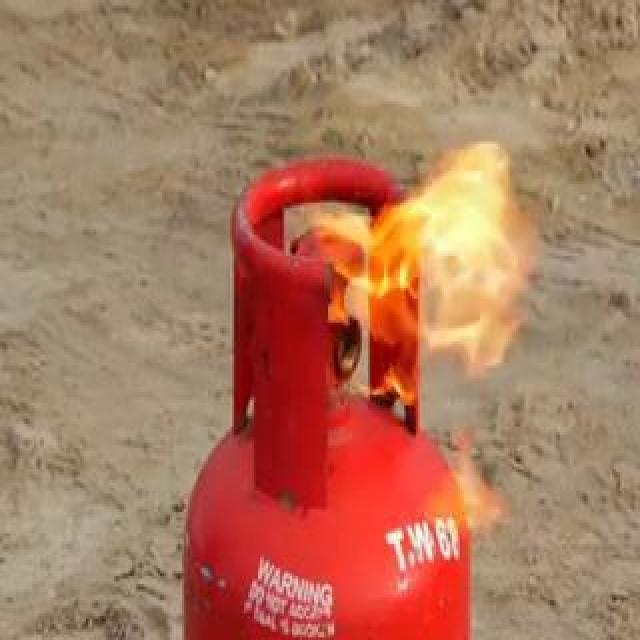Fire: (242, 159, 640, 492)
